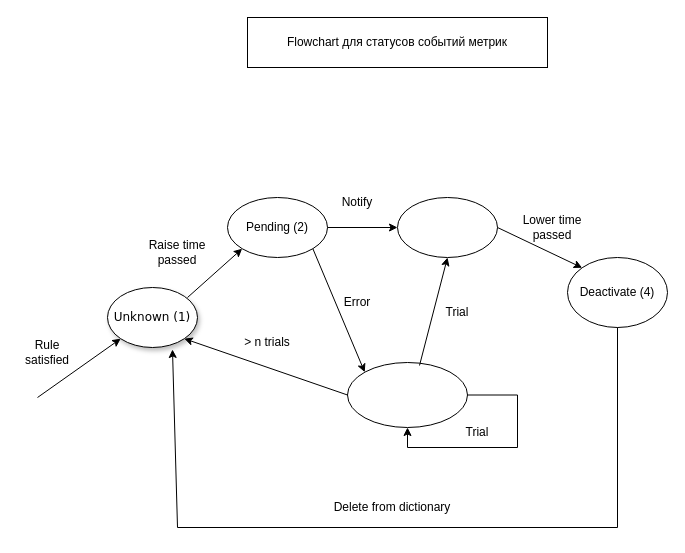
Some shapes in this 685 by 553 pixel diagram are drawn without their labels. Each missing label, with the centre of its shape:
"Active (3)" belongs at (447,227).
"NotNotified (5)" belongs at (407,395).
